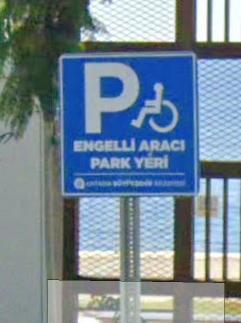disabledpark: (65, 53, 183, 141)
